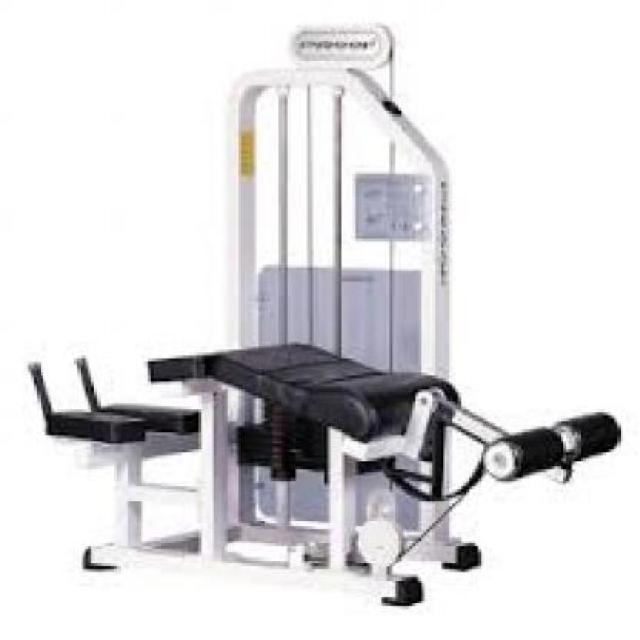reg curl machine: (23, 21, 625, 612)
